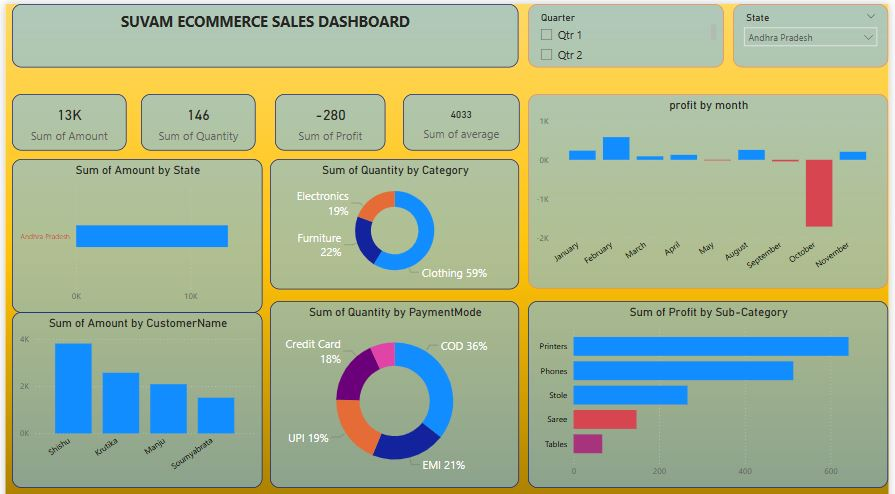

What the dashboard file says about the page in this screenshot:
{"tool":"powerbi","page":{"name":"Page 1","canvas":[1280,720],"ordinal":0},"visuals":[{"type":"textbox","box":[10.1,0,734.1,92.4],"z":0},{"type":"clusteredColumnChart","title":"profit by month","fields":{"Category":["Orders.Order Date.Variation.Date Hierarchy.Month"],"Y":["Details.Profit"]},"box":[758.3,130.4,521.6,282],"z":1000},{"type":"barChart","fields":{"Category":["Details.Sub-Category"],"Y":["Details.Profit"]},"box":[758.3,430.9,521.6,270.7],"z":2000},{"type":"donutChart","fields":{"Category":["Details.Category"],"Y":["Details.Quantity"]},"box":[384.1,223.9,361.4,188.5],"z":3000},{"type":"donutChart","fields":{"Category":["Details.PaymentMode","Details.Category"],"Y":["Details.Quantity"]},"box":[384.1,430.9,361.4,270.7],"z":4000},{"type":"card","fields":{"Values":["Details.Amount"]},"box":[9.9,130.4,165.8,82.2],"z":5000},{"type":"card","fields":{"Values":["Details.Quantity"]},"box":[197,130.4,165.8,82.2],"z":6000},{"type":"card","fields":{"Values":["Details.Profit"]},"box":[391.2,130.4,160.2,82.2],"z":7000},{"type":"card","fields":{"Values":["Details.average"]},"box":[576.9,130.4,168.7,82.2],"z":8000},{"type":"barChart","fields":{"Category":["Orders.State","Details.Sub-Category"],"Y":["Details.Amount"]},"box":[9.9,223.9,362.8,222.5],"z":9000},{"type":"columnChart","fields":{"Category":["Orders.CustomerName"],"Y":["Details.Amount"]},"box":[10,447,363,255],"z":10000},{"type":"slicer","fields":{"Values":["Orders.State"]},"box":[1054.9,0,225.1,92.4],"z":10002},{"type":"slicer","fields":{"Values":["Orders.Order Date.Variation.Date Hierarchy.Quarter"]},"box":[757.6,0,283.9,92.4],"z":10003}]}

Visuals, with their boxes in screenshot pixels (x1, y1, x2, y2), scaled from the page's 1280x720 canvas onto the 895x494 screenshot:
textbox: left=7, top=0, right=520, bottom=63
"profit by month" clusteredColumnChart: left=530, top=89, right=894, bottom=283
barChart - Details.Sub-Category x Details.Profit: left=530, top=296, right=894, bottom=481
donutChart - Details.Category x Details.Quantity: left=269, top=154, right=521, bottom=283
donutChart - Details.PaymentMode x Details.Category: left=269, top=296, right=521, bottom=481
card - Details.Amount: left=7, top=89, right=123, bottom=146
card - Details.Quantity: left=138, top=89, right=254, bottom=146
card - Details.Profit: left=274, top=89, right=386, bottom=146
card - Details.average: left=403, top=89, right=521, bottom=146
barChart - Orders.State x Details.Sub-Category: left=7, top=154, right=261, bottom=306
columnChart - Orders.CustomerName x Details.Amount: left=7, top=307, right=261, bottom=482
slicer - Orders.State: left=738, top=0, right=894, bottom=63
slicer - Orders.Order Date.Variation.Date Hierarchy.Quarter: left=530, top=0, right=728, bottom=63
